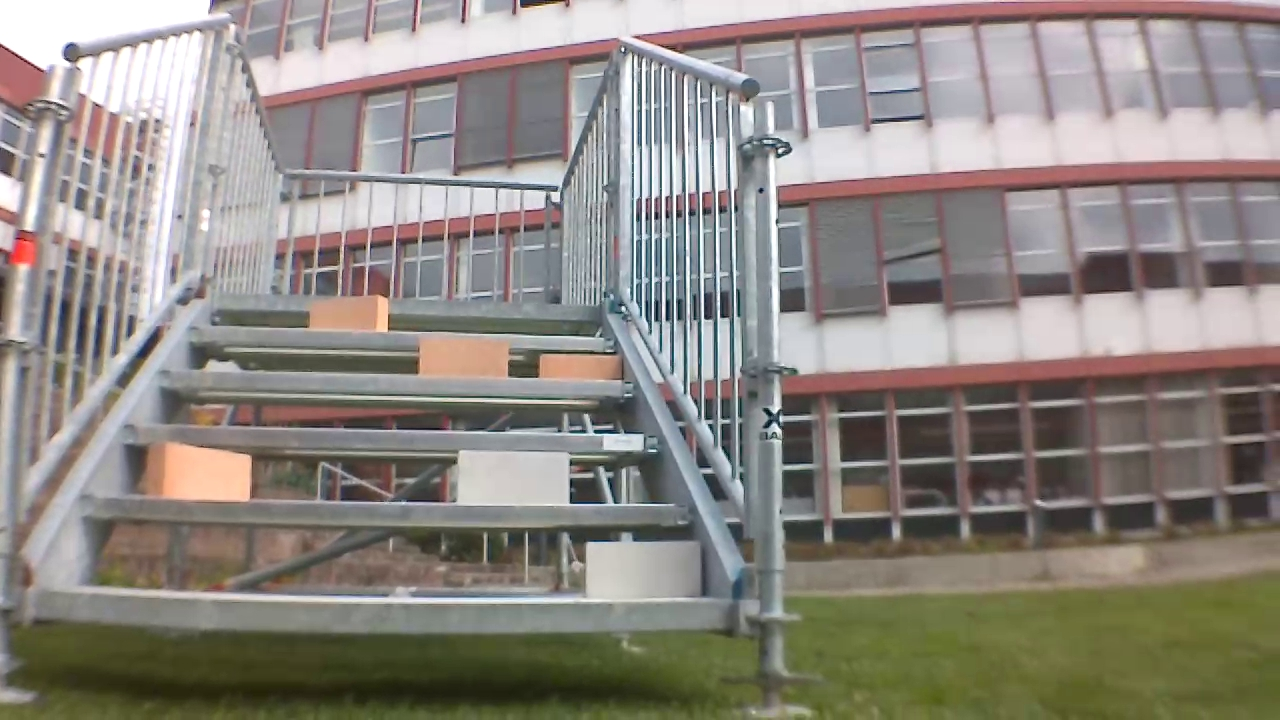brick: (585, 543, 701, 596), (457, 449, 567, 503), (146, 444, 249, 501), (420, 334, 506, 376), (309, 296, 386, 330), (539, 354, 621, 378)
edge: (37, 588, 730, 632), (80, 491, 692, 526), (121, 424, 659, 455), (157, 369, 633, 397), (187, 324, 616, 352), (216, 292, 599, 320)
stairs: (3, 9, 826, 719)
steps: (32, 289, 735, 636)
